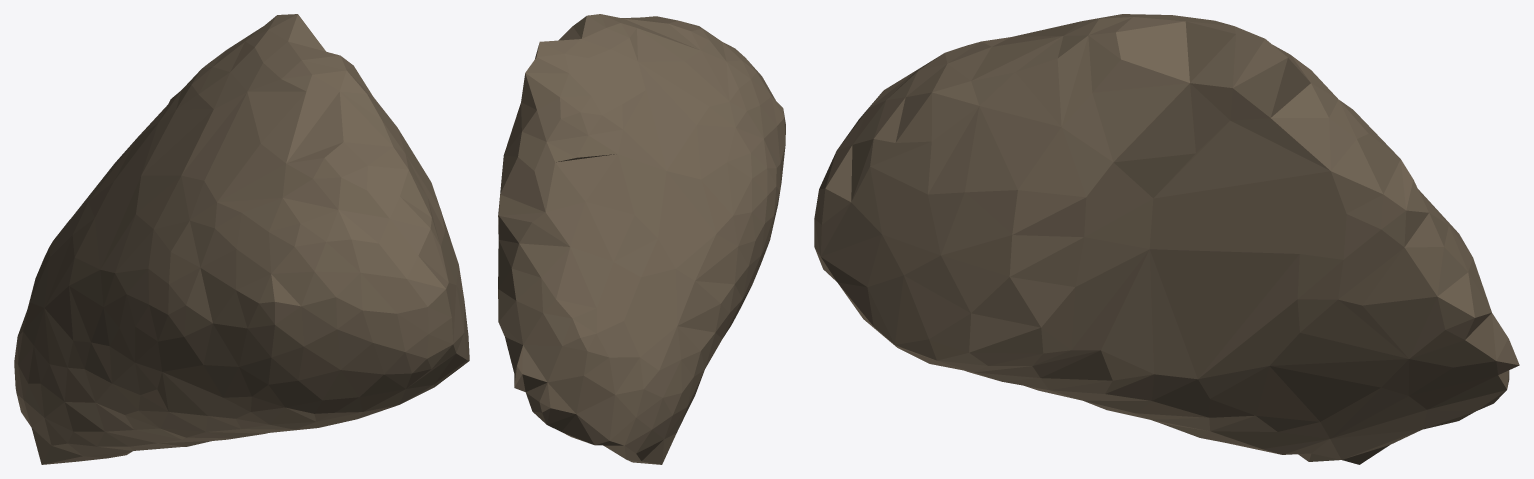
Rendered from Model_511_RH__Principal_sensory_trigeminal_nucleus_(Pr5).obj.
3 renders of one model, left to right at view 1: azimuth 30°, elevation 25°; view 2: azimuth 150°, elevation 25°; view 3: azimuth 270°, elevation 25°, orthographic. The views are drawn at different scales.
Bounding box in the file's own units: 0.7054 × 1.07 × 1.3.
